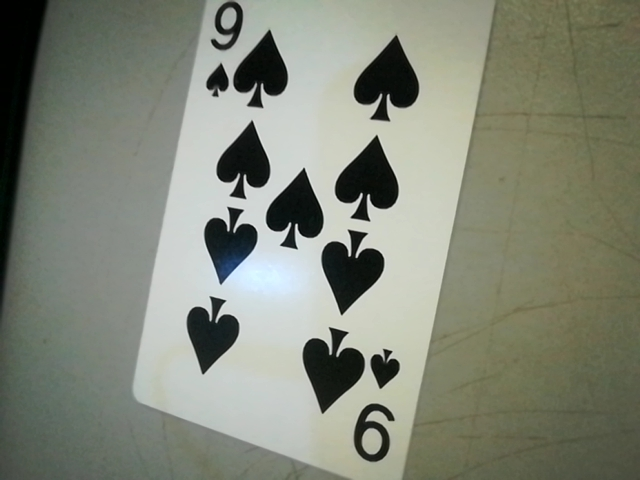ht 9: (350, 333, 410, 476), (195, 0, 253, 107)
